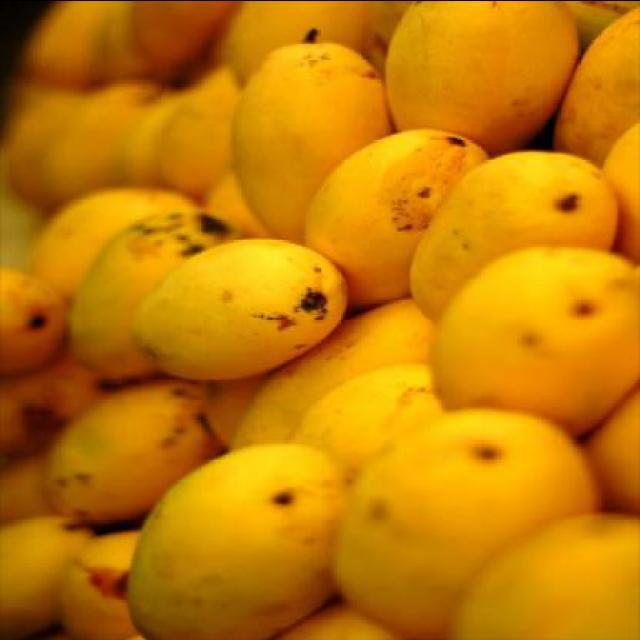Mango: (2, 0, 640, 640), (220, 28, 397, 240), (130, 234, 347, 383)
